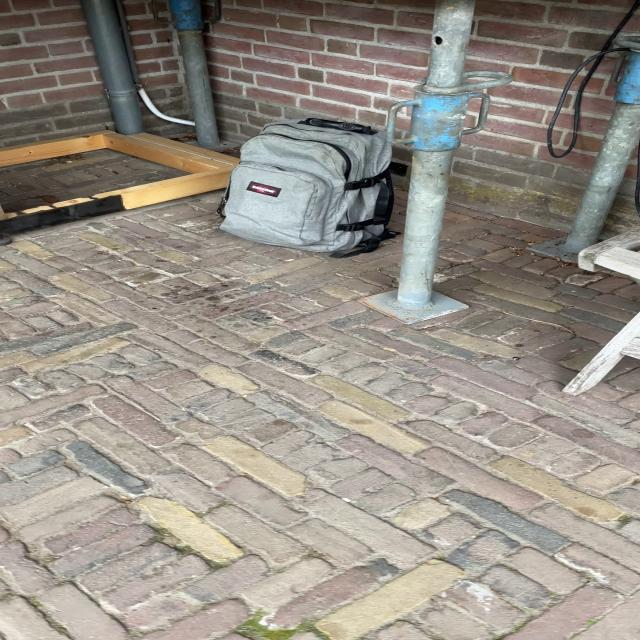backpack: (209, 111, 403, 259)
